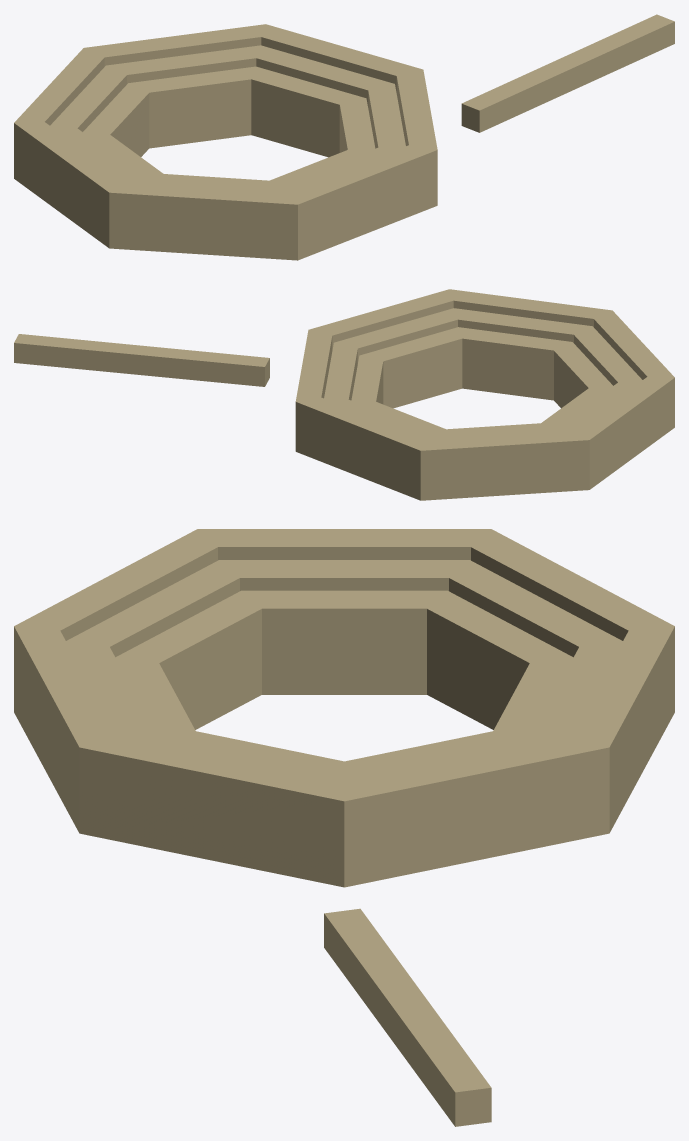
The model's file is prop-edge-cord-coil.fbx.
3 views of the same model, one above another, from view 1: azimuth 30°, elevation 25°; view 2: azimuth 150°, elevation 25°; view 3: azimuth 270°, elevation 25° (orthographic). The views are drawn at different scales.
Parts seen in each view (by area): view 1: prop-edge-cord-coil; view 2: prop-edge-cord-coil; view 3: prop-edge-cord-coil.
Boxes of the visible parts, left/top/right/bottom form: prop-edge-cord-coil: left=14, top=14, right=674, bottom=260; prop-edge-cord-coil: left=14, top=289, right=674, bottom=500; prop-edge-cord-coil: left=14, top=529, right=674, bottom=1126.
Size of the model in its own units: 36.51 by 3.8 by 20.86.
